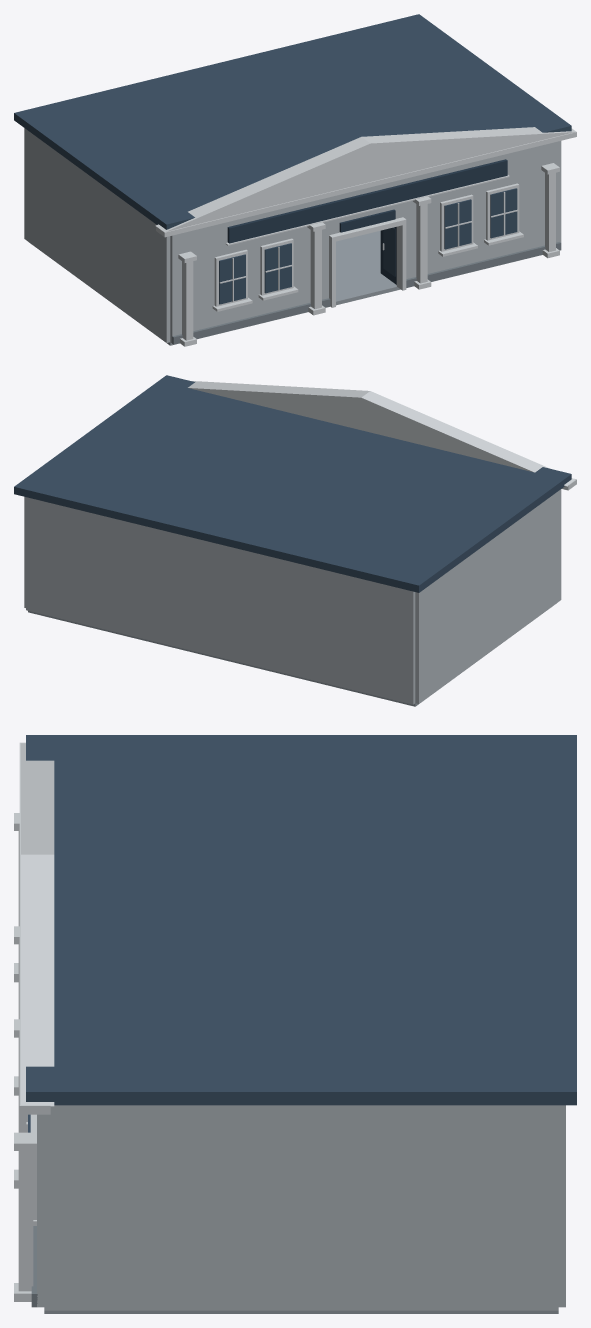
File: biblioteca_exterior.glb
3 renders of one model, top to bottom at view 1: azimuth 30°, elevation 25°; view 2: azimuth 150°, elevation 25°; view 3: azimuth 270°, elevation 25°, orthographic. The views are drawn at different scales.
Visible parts, largest first — view 1: Cobertura, ParedeEsquerda, Frontao, FrenteEsquerda, FrenteDireita, Placa, Piso, Cornija, RodapeE, RodapeD, _MeshInstance3D_528, _MeshInstance3D_523 (+17 smaller); view 2: Cobertura, ParedeFundo, ParedeEsquerda, Frontao, Piso; view 3: Cobertura, ParedeDireita, Frontao, _MeshInstance3D_500, Piso, ParedeFundo, FrenteDireita, Cornija.
Boxes of the visible parts, x1,y1,x2,y2 form: Cobertura: (14, 14, 571, 229); ParedeEsquerda: (24, 128, 170, 342); Frontao: (155, 127, 574, 231); FrenteEsquerda: (170, 197, 330, 343); FrenteDireita: (401, 141, 559, 278); Placa: (227, 159, 507, 243); Piso: (30, 230, 542, 345); Cornija: (156, 128, 576, 237); RodapeE: (172, 298, 330, 344); RodapeD: (406, 242, 561, 287); _MeshInstance3D_528: (444, 199, 471, 249); _MeshInstance3D_523: (264, 243, 291, 293); Cobertura: (14, 375, 571, 592); ParedeFundo: (26, 497, 415, 704); ParedeEsquerda: (415, 489, 561, 703); Frontao: (188, 381, 574, 486); Piso: (28, 603, 556, 706); Cobertura: (26, 735, 576, 1105); ParedeDireita: (44, 1105, 558, 1310); Frontao: (21, 743, 54, 1106); _MeshInstance3D_500: (18, 1151, 33, 1291); Piso: (44, 1310, 558, 1313); ParedeFundo: (558, 1105, 565, 1307); FrenteDireita: (37, 1114, 44, 1307); Cornija: (19, 742, 50, 1114).
Size of the model in its own units: 23.4 by 8.66 by 15.32.
